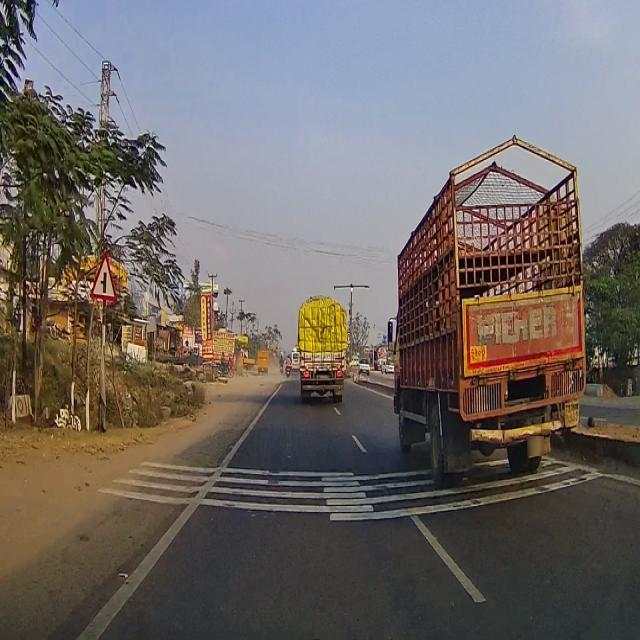side-road-left: (95, 256, 113, 296)
